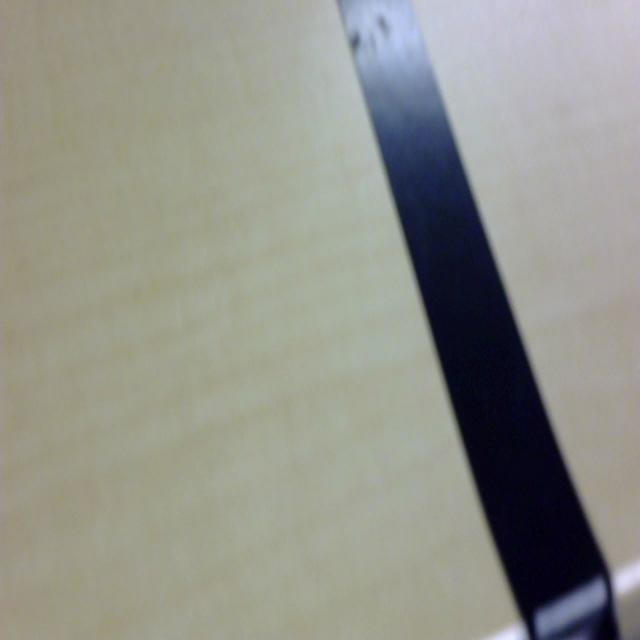tape: (320, 0, 629, 640)
